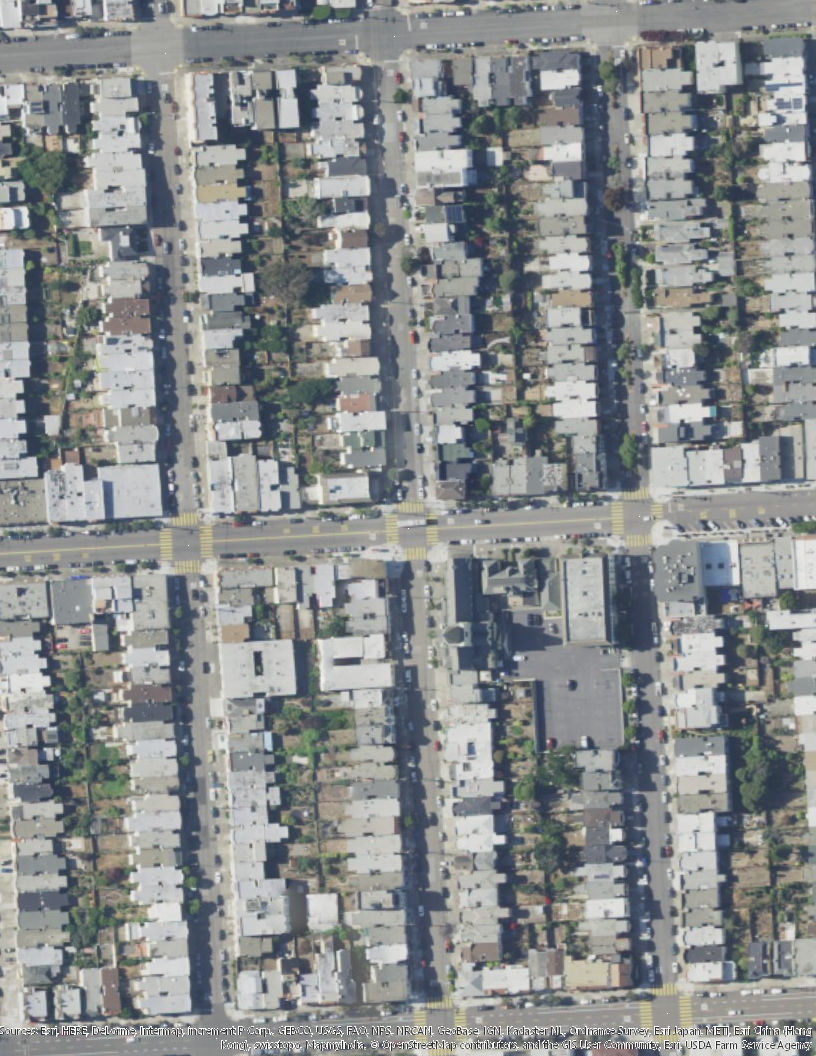zebracross: (679, 993, 694, 1031), (639, 997, 654, 1035), (623, 531, 654, 549), (454, 1008, 469, 1042), (423, 994, 459, 1008), (414, 1010, 428, 1046), (159, 528, 173, 563), (170, 511, 202, 526), (610, 501, 624, 535), (622, 485, 651, 501), (384, 515, 399, 545), (653, 1030, 687, 1043), (397, 500, 426, 515), (200, 524, 213, 557), (173, 559, 200, 574), (405, 546, 428, 563), (653, 981, 678, 996), (426, 514, 438, 544), (431, 1043, 458, 1056), (651, 499, 665, 519)
